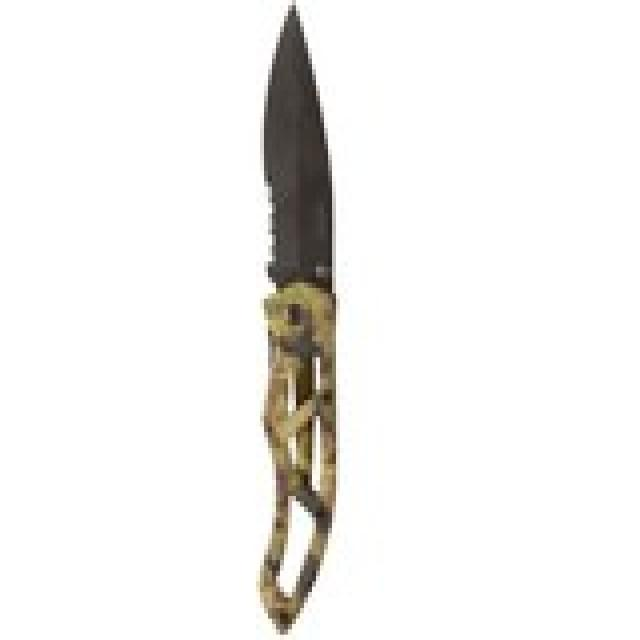Knife: (235, 1, 360, 640)
